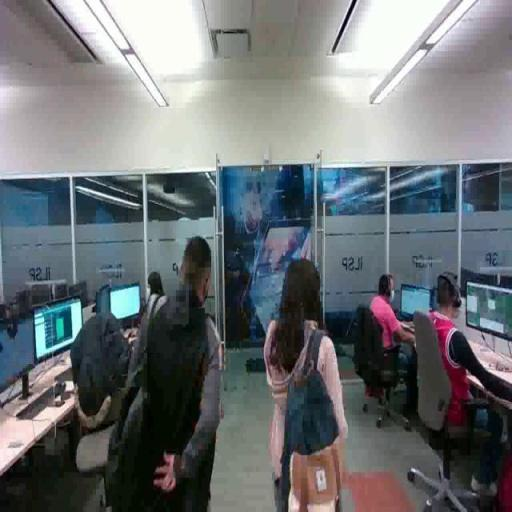person: (268, 261, 354, 512), (143, 238, 221, 512), (431, 273, 512, 496), (372, 275, 419, 418)
